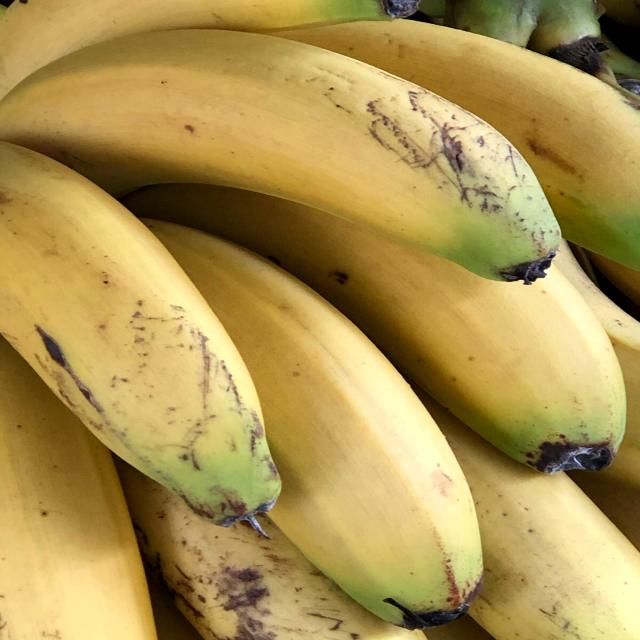banana: (4, 6, 640, 622)
